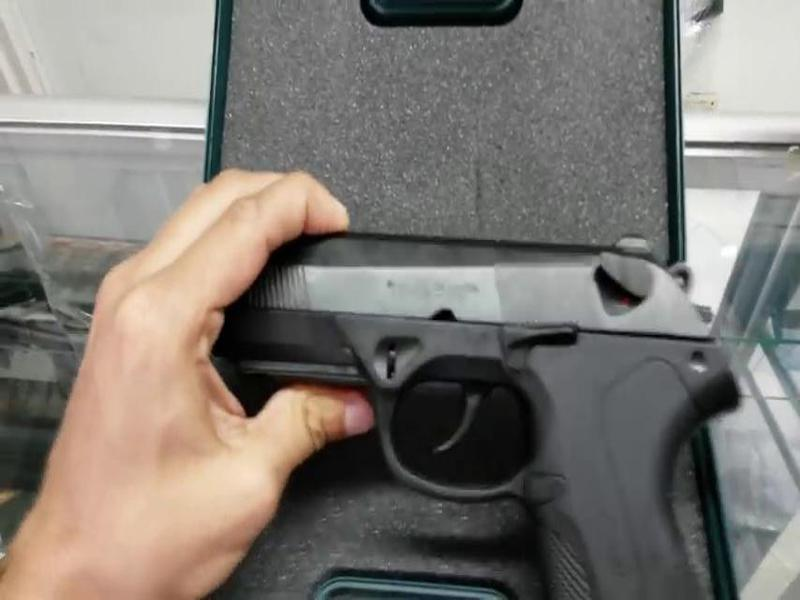Pistola: (225, 204, 752, 600)
